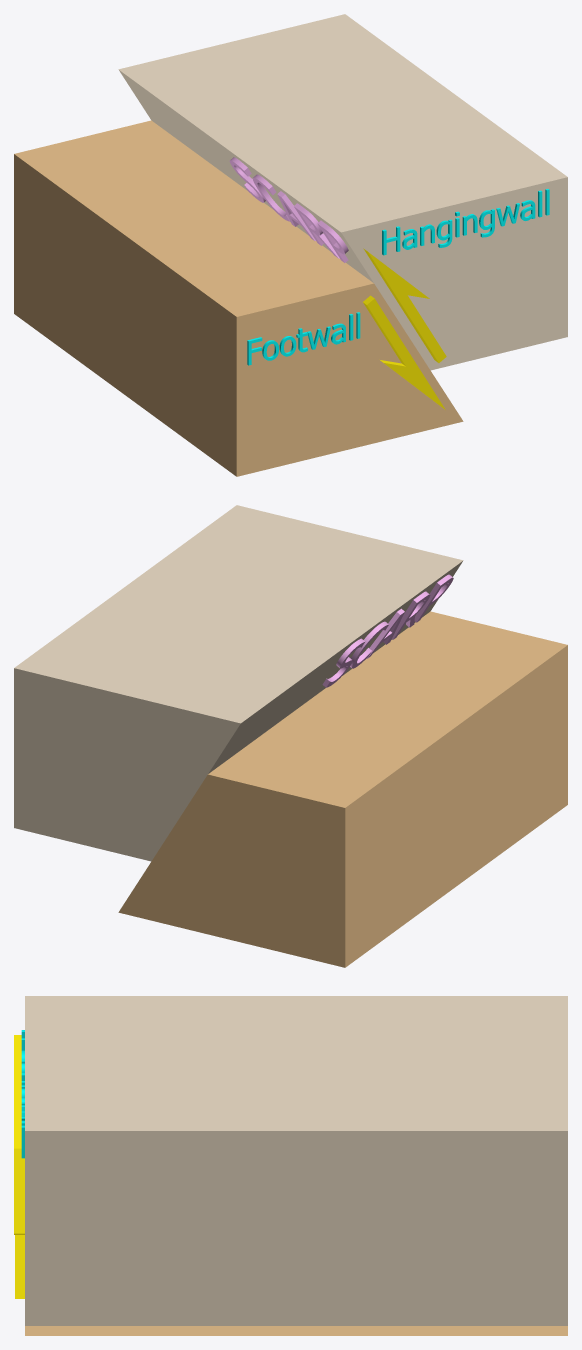
File: reverse_fault.glb
3 views of the same model, one above another, from view 1: azimuth 30°, elevation 25°; view 2: azimuth 150°, elevation 25°; view 3: azimuth 270°, elevation 25° (orthographic). The views are drawn at different scales.
Visible parts, largest first — view 1: Material2 (×7); view 2: Material2 (×3); view 3: Material2 (×5).
Part boxes in pixels (x1,y1,x2,y2): Material2 (×7): [14, 14, 567, 476]; Material2 (×3): [14, 505, 567, 967]; Material2 (×5): [14, 996, 567, 1335].
Size of the model in its own units: 136 by 86.19 by 162.
